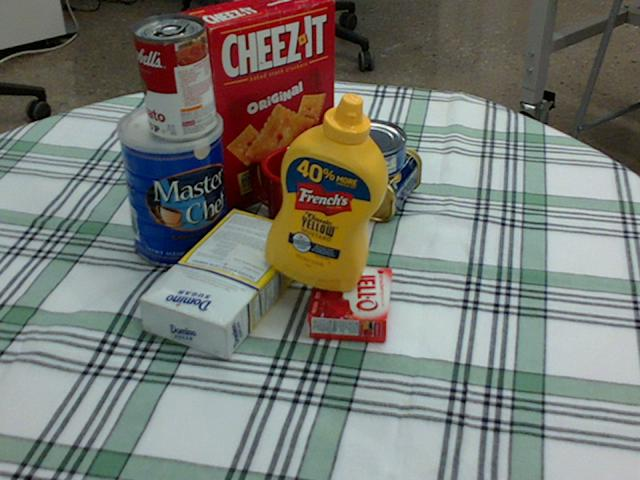cracker_box: (178, 0, 333, 211)
gelatin_box: (307, 264, 391, 341)
master_chef_can: (115, 102, 229, 268)
mug: (250, 141, 347, 244)
mustard_bottle: (264, 92, 387, 291)
potted_meat_can: (311, 133, 418, 219)
sugar_box: (139, 207, 310, 358)
tomato_soup_can: (133, 14, 215, 139)
tuna_fish_can: (328, 119, 405, 180)
